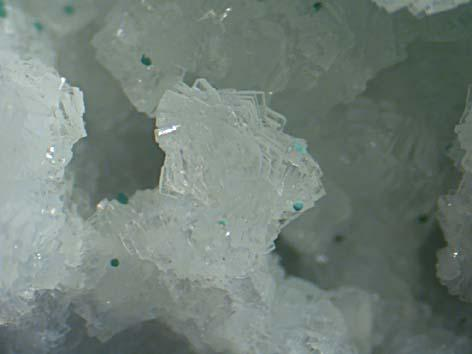prehnite: (0, 5, 349, 353)
